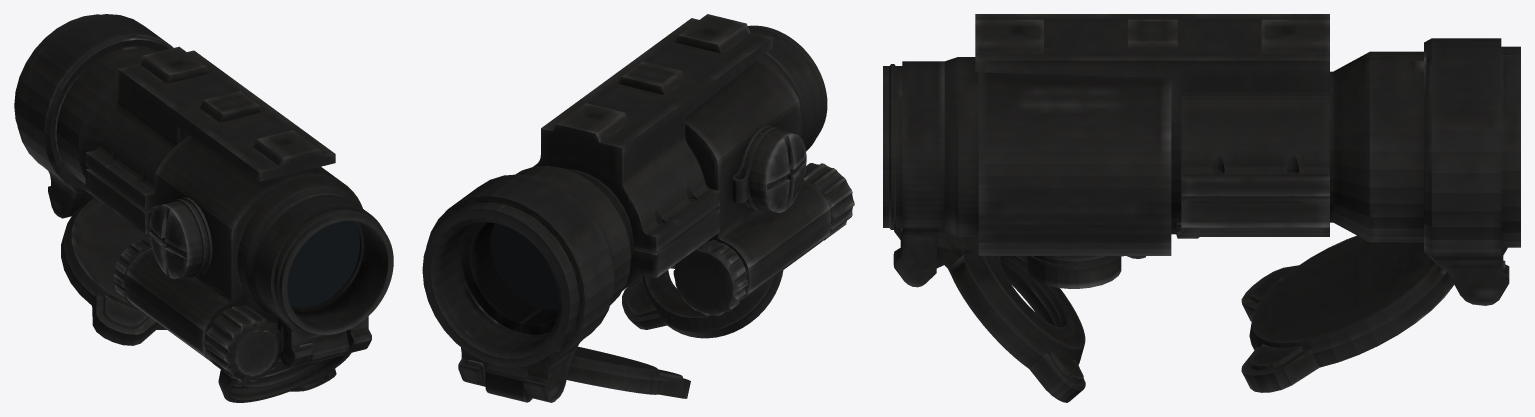
3 views of the same model, side by side, from view 1: azimuth 30°, elevation 25°; view 2: azimuth 150°, elevation 25°; view 3: azimuth 270°, elevation 25° (orthographic). The views are drawn at different scales.
Visible parts, largest first — view 1: TW_61659f79d92c473c770213ee_PZ_Import; view 2: TW_61659f79d92c473c770213ee_PZ_Import; view 3: TW_61659f79d92c473c770213ee_PZ_Import.
Boxes of the visible parts, bbox=[...] form: TW_61659f79d92c473c770213ee_PZ_Import: bbox=[14, 14, 393, 402]; TW_61659f79d92c473c770213ee_PZ_Import: bbox=[422, 14, 854, 402]; TW_61659f79d92c473c770213ee_PZ_Import: bbox=[883, 14, 1520, 402].
Size of the model in its own units: 0.03 by 0.0728 by 0.0432.
1 material, 1 textured.
